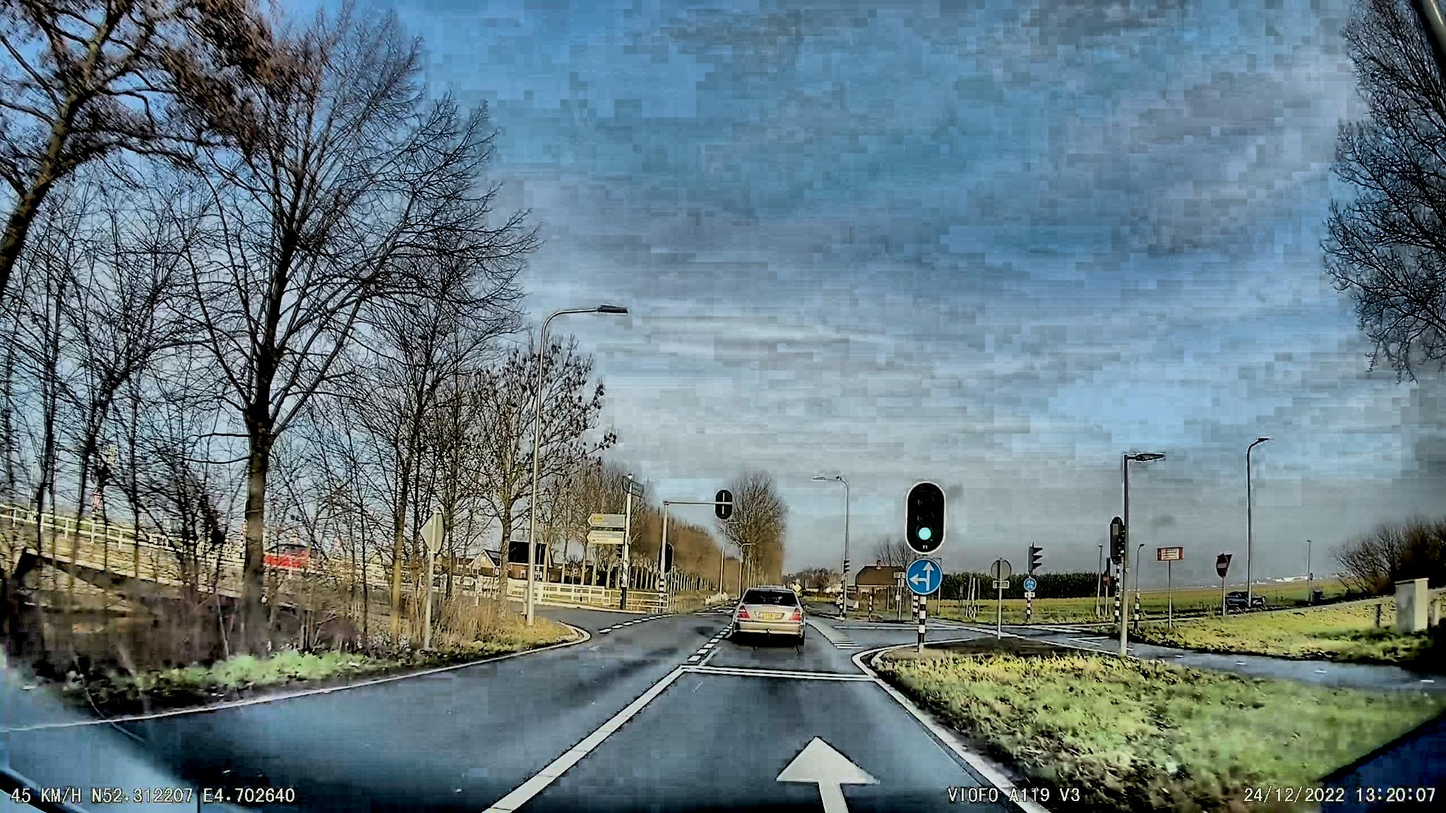Roads: (0, 613, 1039, 813)
